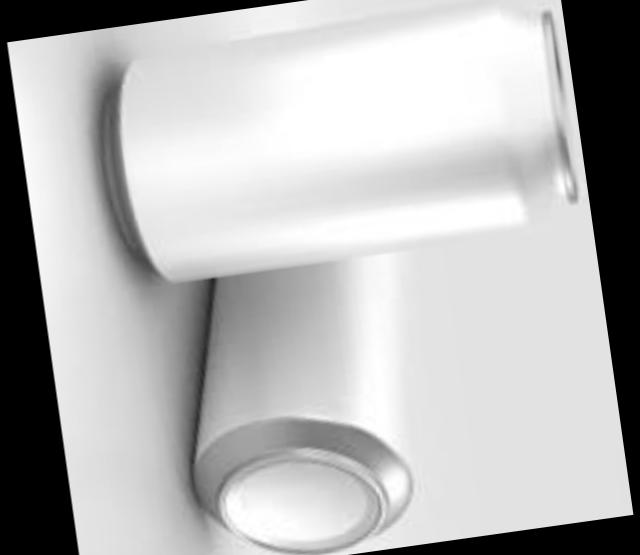metal: (108, 0, 579, 274), (197, 251, 413, 547)
